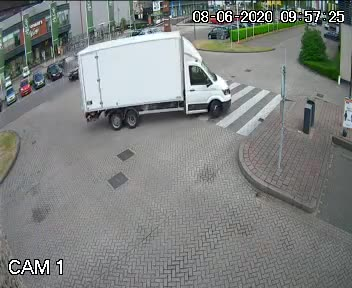car: (59, 27, 247, 139)
